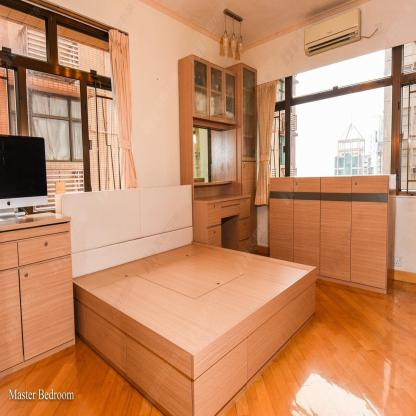AC: (304, 8, 361, 56)
Bed Frame: (62, 184, 318, 416)
Cupboard: (269, 174, 397, 293)
